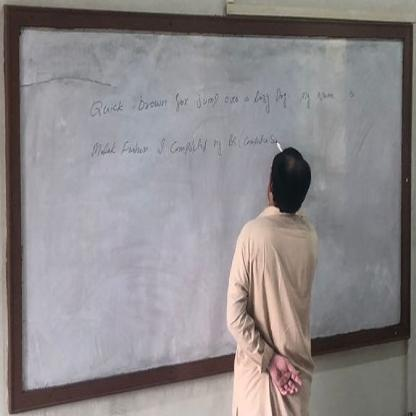Handwritten text: (79, 81, 369, 122), (89, 132, 269, 160)
Lecturer: (223, 146, 335, 403)
Whiteboard: (13, 18, 404, 399)
